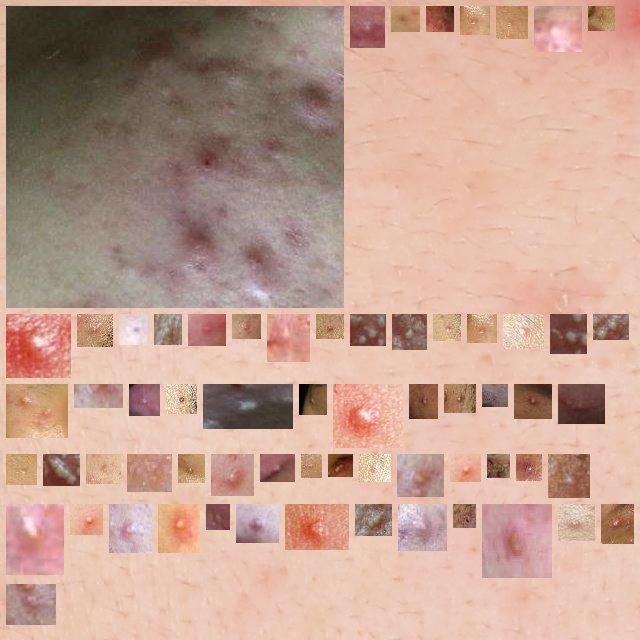pustule: (14, 14, 336, 300), (490, 512, 544, 570), (341, 392, 395, 440), (14, 322, 63, 370), (14, 512, 56, 567), (211, 392, 285, 421), (14, 392, 60, 430), (293, 512, 341, 542), (406, 512, 439, 543), (542, 14, 574, 44), (117, 512, 144, 545), (275, 322, 302, 354), (166, 512, 192, 545), (14, 592, 48, 617), (405, 462, 436, 489), (566, 392, 597, 416), (556, 462, 582, 490), (219, 462, 246, 488), (135, 462, 164, 484), (244, 512, 271, 535), (555, 322, 579, 346), (358, 14, 377, 40), (511, 322, 536, 341), (566, 512, 587, 533), (522, 392, 544, 411), (609, 512, 626, 536), (400, 322, 419, 342), (196, 322, 218, 338), (85, 322, 105, 339), (51, 462, 72, 478), (363, 512, 384, 528), (358, 322, 378, 338), (504, 14, 520, 31), (94, 462, 113, 476), (78, 512, 95, 527), (417, 392, 430, 411), (137, 392, 152, 408), (268, 462, 287, 474), (14, 462, 29, 477), (174, 392, 189, 406), (452, 392, 468, 405), (601, 322, 621, 332), (127, 322, 140, 337), (367, 462, 383, 474), (468, 14, 482, 27), (475, 322, 489, 335), (162, 322, 174, 337), (307, 392, 319, 407), (458, 462, 473, 474), (186, 462, 197, 475), (441, 322, 453, 333), (399, 14, 412, 24), (434, 14, 446, 24), (240, 322, 253, 331), (524, 462, 534, 473), (324, 322, 336, 331), (214, 512, 222, 522), (490, 392, 500, 399), (336, 462, 345, 469), (495, 462, 502, 470), (461, 512, 468, 520), (309, 462, 314, 470)
